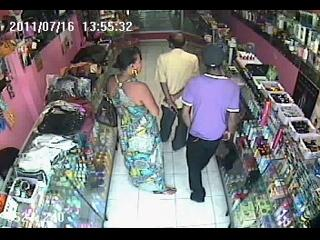Normal: (106, 46, 177, 195), (180, 44, 240, 204), (155, 33, 200, 153)
